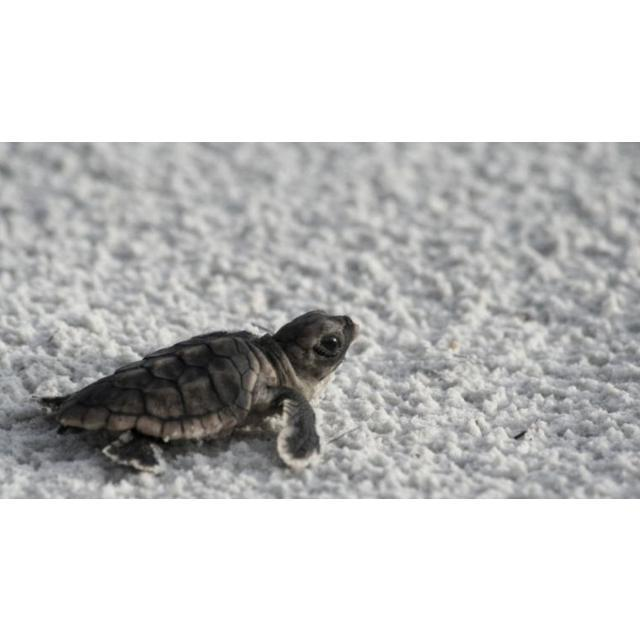turtle: (34, 310, 362, 474)
